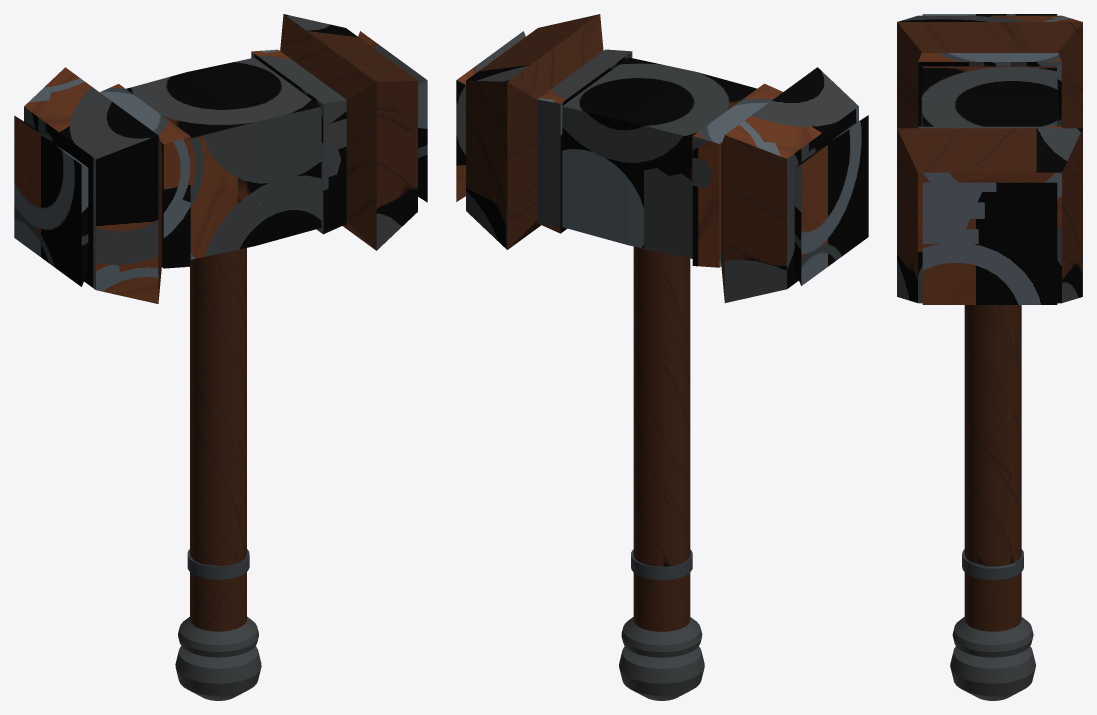
The model's file is Hammer.fbx.
The picture shows the model from 3 angles, left to right: view 1: azimuth 30°, elevation 25°; view 2: azimuth 150°, elevation 25°; view 3: azimuth 270°, elevation 25°; orthographic projection.
Visible parts, largest first — view 1: Cube, Cylinder; view 2: Cube, Cylinder; view 3: Cube, Cylinder.
Part boxes in pixels (x1=…): Cube: x1=14, y1=14, x2=427, y2=303; Cylinder: x1=175, y1=248, x2=261, y2=700; Cube: x1=456, y1=14, x2=868, y2=302; Cylinder: x1=619, y1=246, x2=704, y2=700; Cube: x1=897, y1=14, x2=1082, y2=304; Cylinder: x1=950, y1=305, x2=1035, y2=700.
Size of the model in its own units: 554 by 946 by 258.
Materials: 2 (2 with a texture image).
